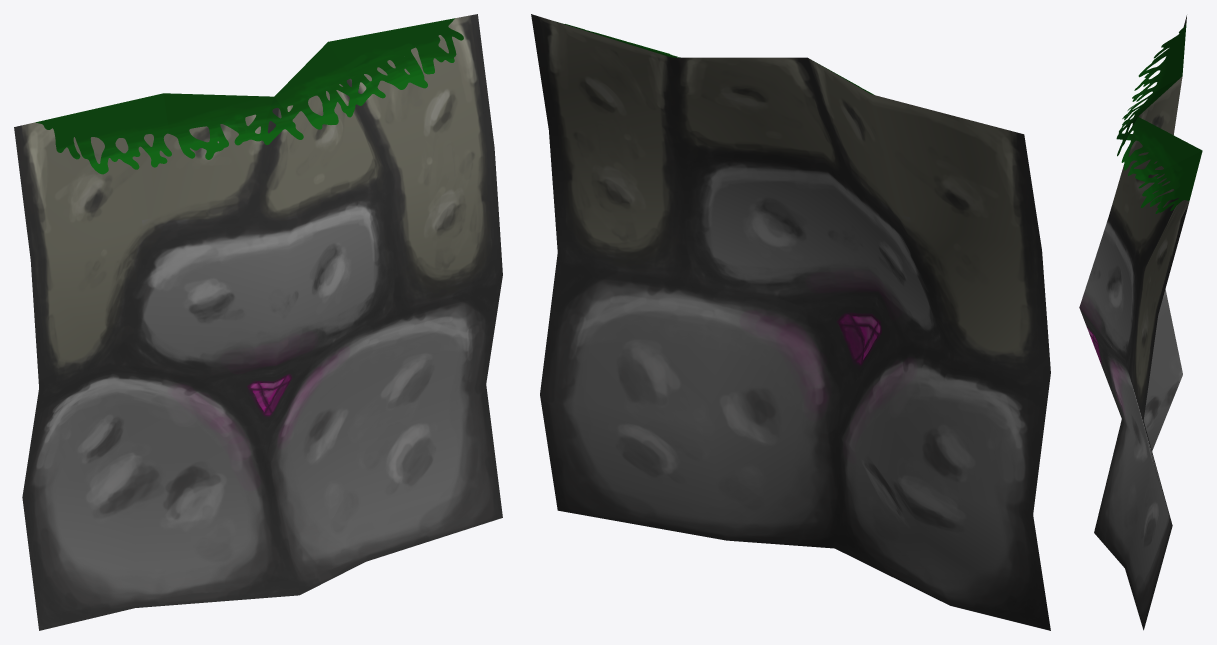
Rendered from WallFlat1x.FBX.
The picture shows the model from 3 angles, left to right: view 1: azimuth 30°, elevation 25°; view 2: azimuth 150°, elevation 25°; view 3: azimuth 270°, elevation 25°; orthographic projection. The views are drawn at different scales.
Parts seen in each view (by area): view 1: Box002; view 2: Box002; view 3: Box002.
Boxes of the visible parts, bbox=[...] form: Box002: bbox=[14, 14, 502, 630]; Box002: bbox=[531, 14, 1050, 630]; Box002: bbox=[1079, 15, 1202, 630].
Bounding box in the file's own units: 80 × 80 × 21.25.
